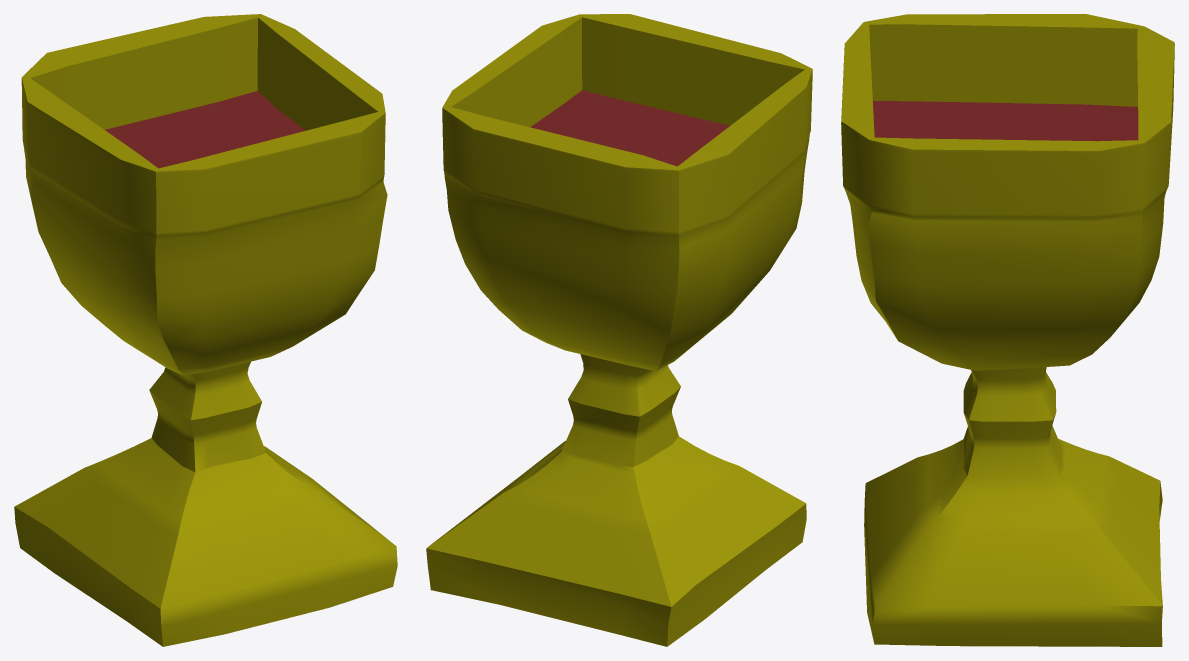
File: Chalice.fbx
3 views of the same model, side by side, from view 1: azimuth 30°, elevation 25°; view 2: azimuth 150°, elevation 25°; view 3: azimuth 270°, elevation 25° (orthographic). The views are drawn at different scales.
Parts seen in each view (by area): view 1: pCube1; view 2: pCube1; view 3: pCube1.
Part boxes in pixels (bbox=[...]): pCube1: bbox=[14, 14, 397, 646]; pCube1: bbox=[426, 14, 812, 646]; pCube1: bbox=[841, 14, 1174, 646].
Size of the model in its own units: 32.16 by 54.5 by 32.56.
